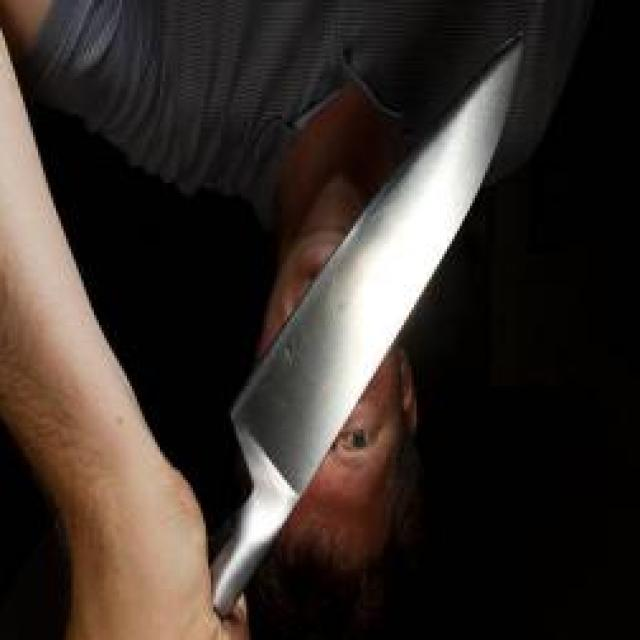knife: (59, 33, 524, 640)
